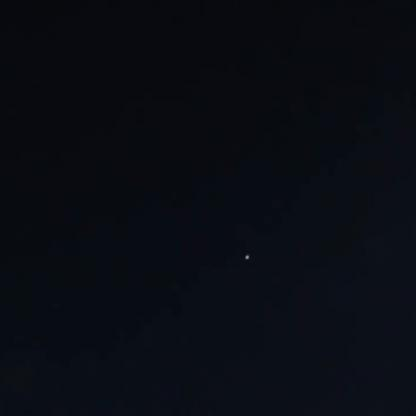ball: (240, 253, 253, 263)
